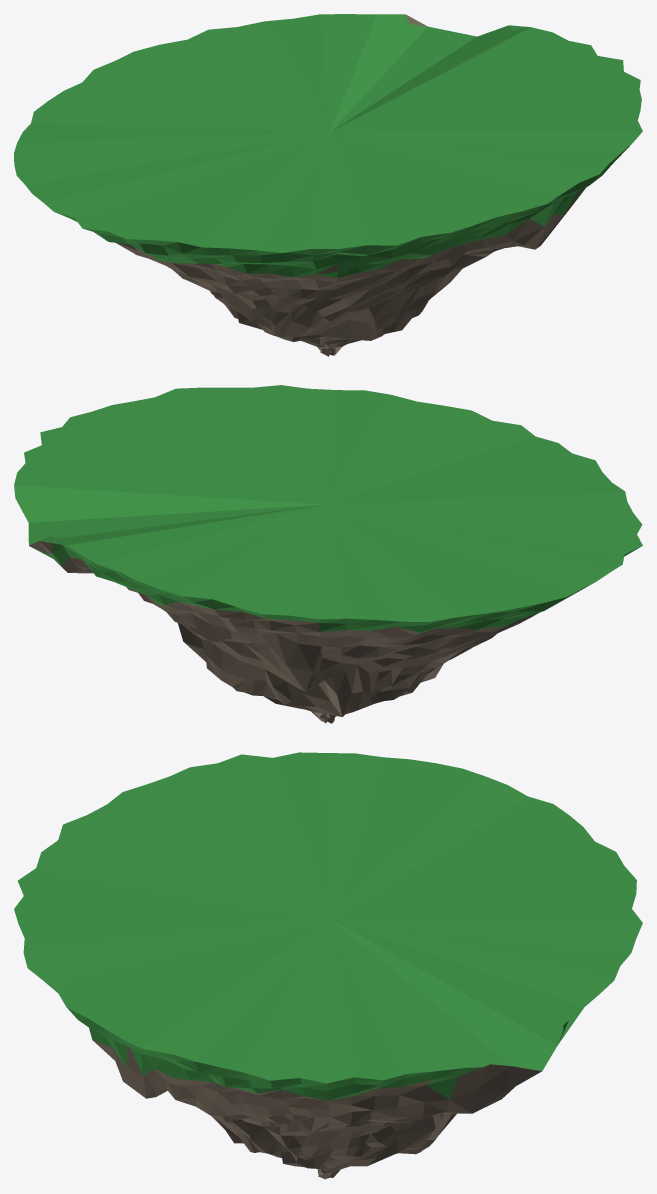
File: forest_island_2.fbx
3 renders of one model, top to bottom at view 1: azimuth 30°, elevation 25°; view 2: azimuth 150°, elevation 25°; view 3: azimuth 270°, elevation 25°, orthographic. The views are drawn at different scales.
Parts seen in each view (by area): view 1: Cone_2.002; view 2: Cone_2.002; view 3: Cone_2.002.
Part boxes in pixels (x1,y1,x2,y2): Cone_2.002: (14, 14, 642, 356); Cone_2.002: (14, 385, 642, 723); Cone_2.002: (14, 752, 642, 1179).
Bounding box in the file's own units: 6038 × 2220 × 4823.
